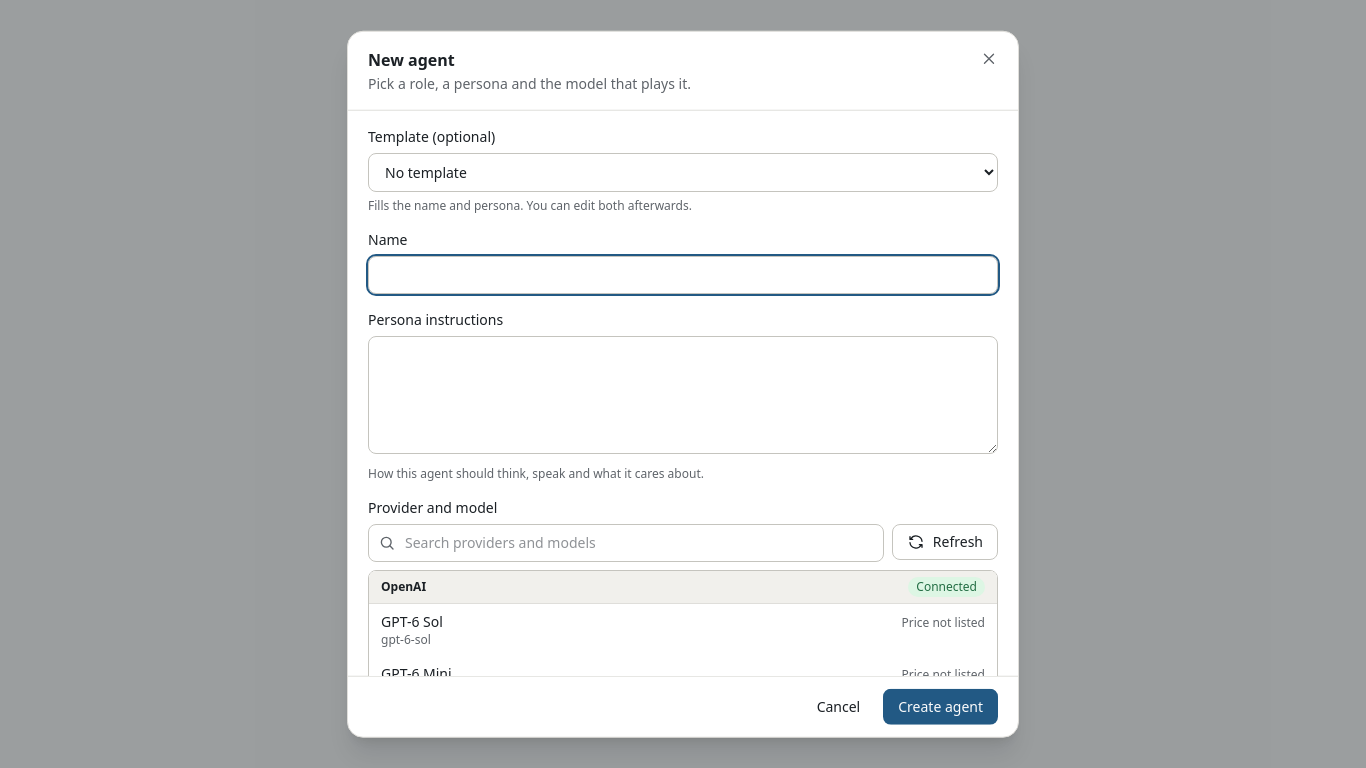
Test: AgentEditorDialog › shows a server error inline
Expected: the option "GPT-6 Sol gpt-6-sol Price not listed" is shown, [369,603,997,655]
Type "X" into the field labelled "Name". click: (683, 275)
box: [368,256,998,294]
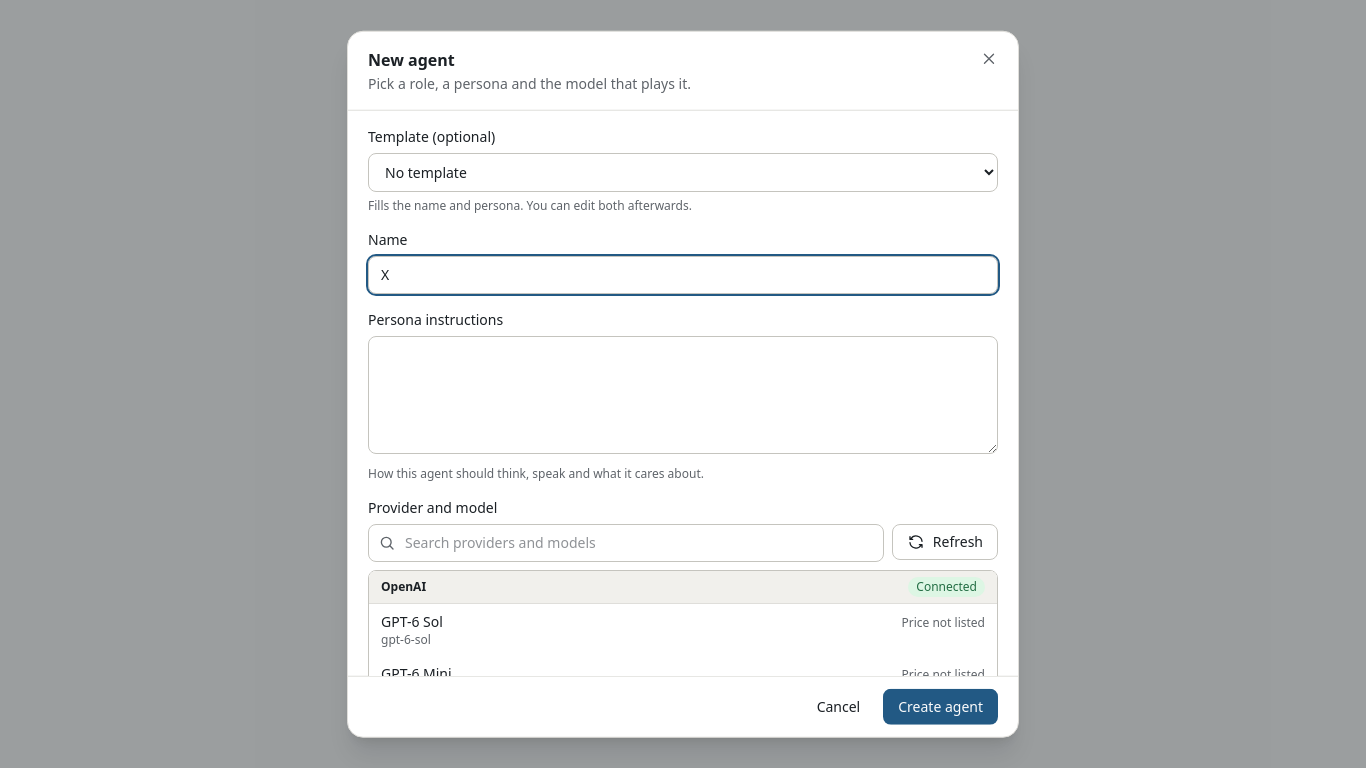
Type "Y" into the text box labelled "Persona instructions". click: (683, 395)
box: [368,336,998,454]
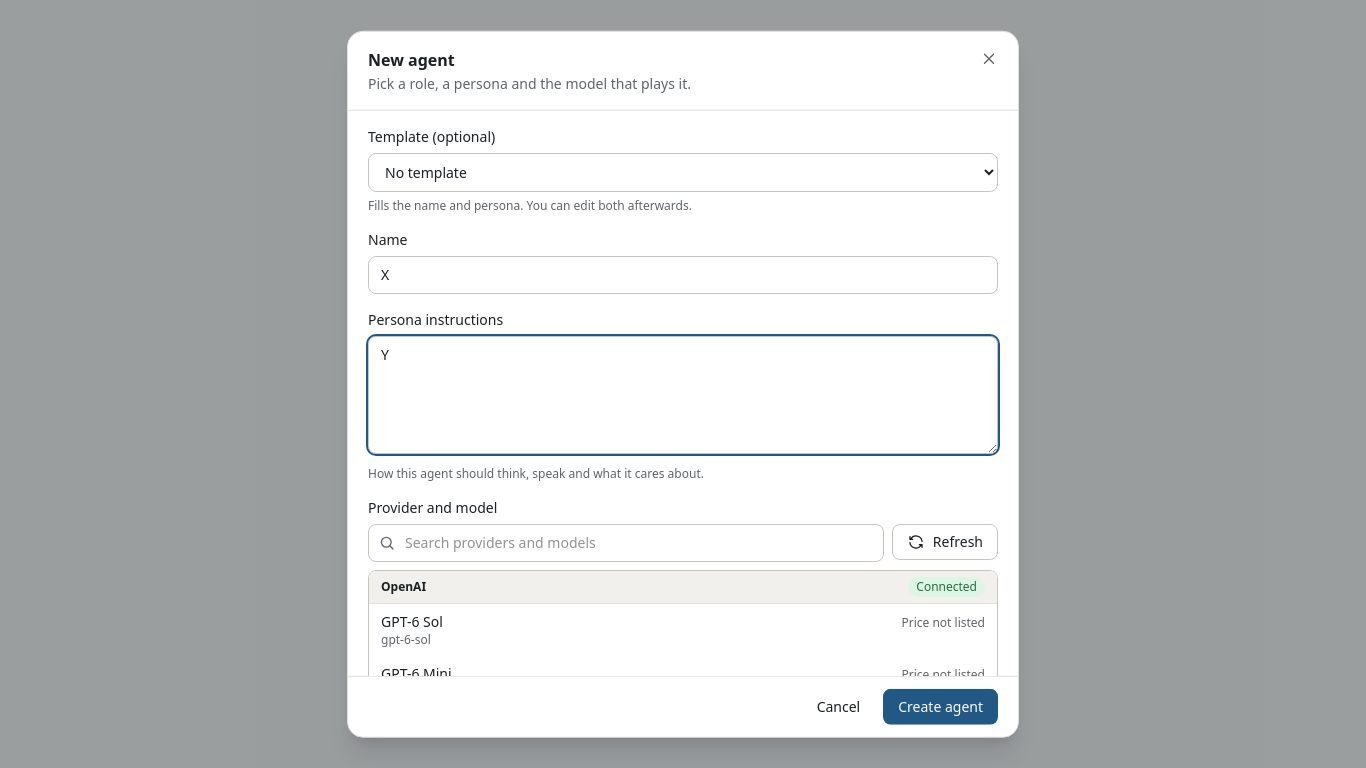
Click the option "GPT-6 Sol gpt-6-sol Price not listed". click: (412, 621)
box: [369,603,997,655]
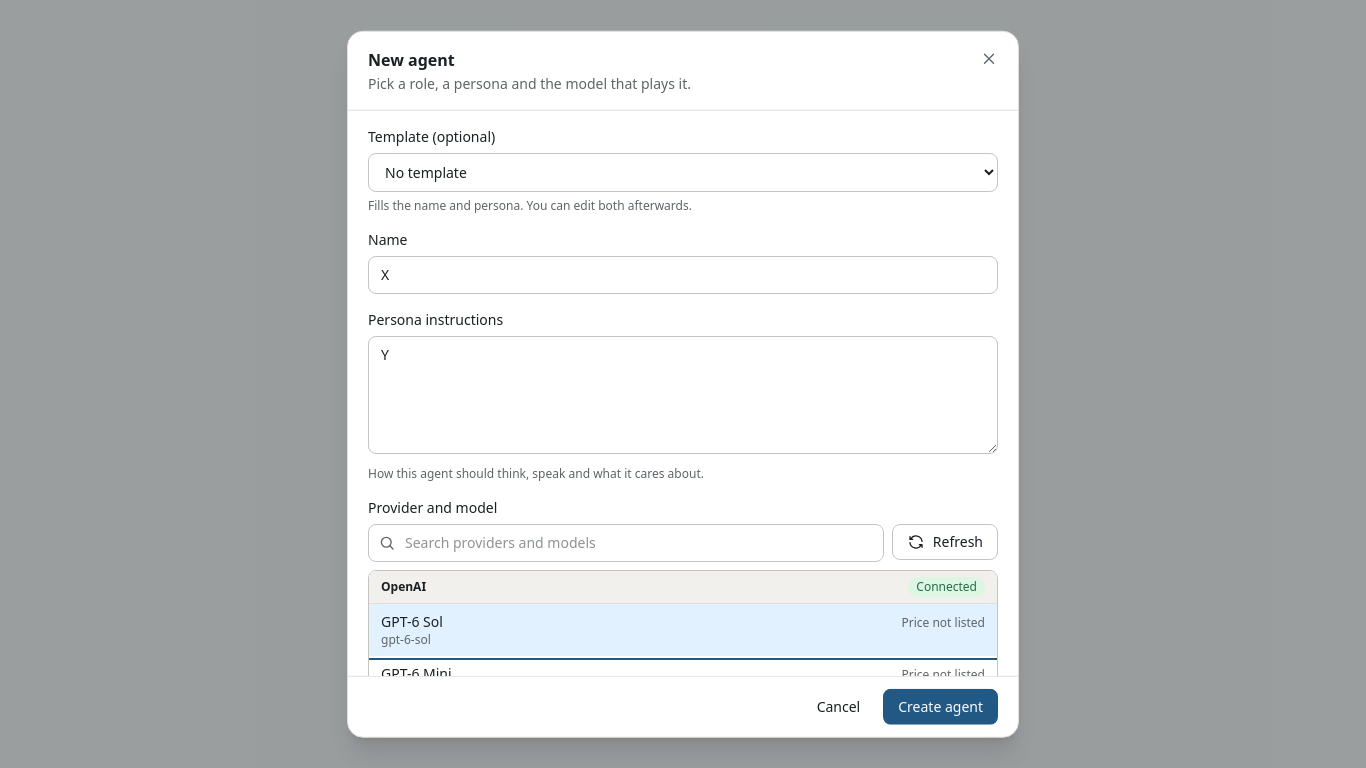
Click the button "Create agent". click: (941, 706)
box: [883,688,998,724]
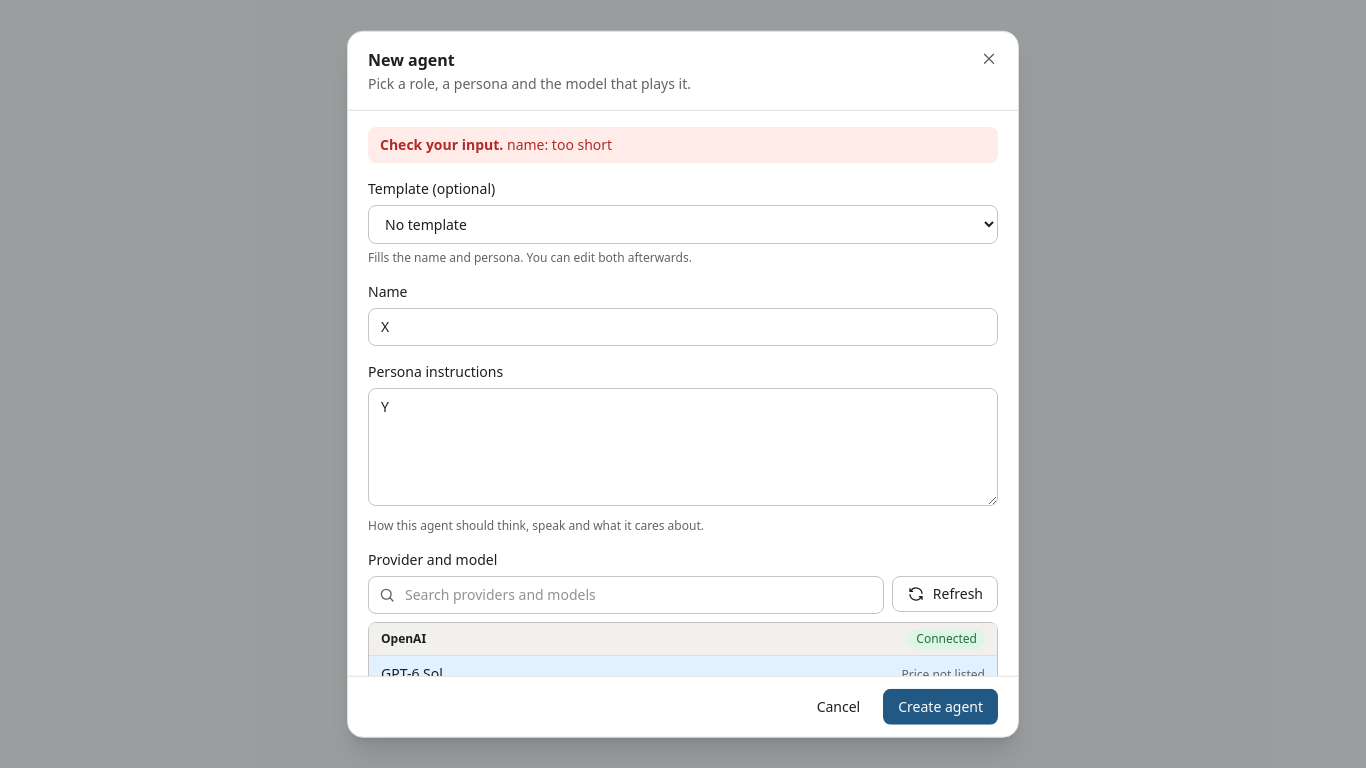
Expected: the message shows "name: too short", [507,135,612,154]
